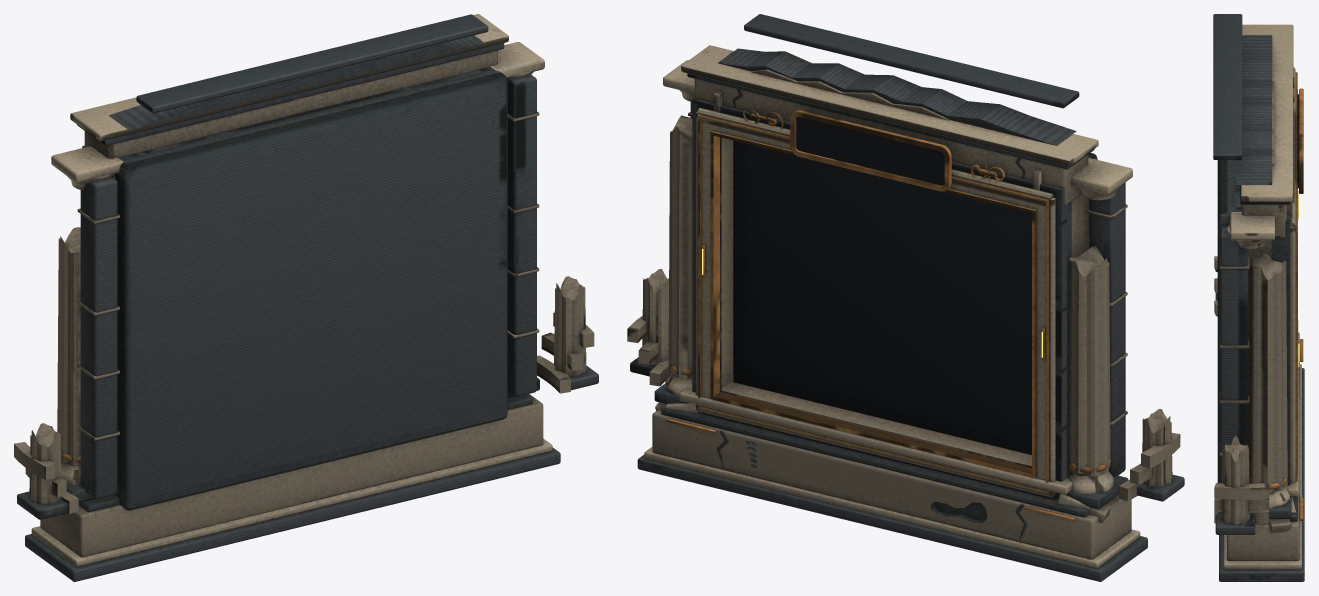
3 views of the same model, side by side, from view 1: azimuth 30°, elevation 25°; view 2: azimuth 150°, elevation 25°; view 3: azimuth 270°, elevation 25° (orthographic). The views are drawn at different scales.
Visible parts, largest first — view 1: Mountain_basalt, Arena_weathered_limestone, Fractured_limestone; view 2: Uniform_charcoal, Arena_weathered_limestone, Mountain_basalt, Fractured_limestone, Worn_sunset_bronze; view 3: Mountain_basalt, Arena_weathered_limestone, Fractured_limestone, Worn_sunset_bronze, Uniform_charcoal.
Part boxes in pixels (<box>): Mountain_basalt: <box>17,14,598,581</box>; Arena_weathered_limestone: <box>14,50,594,557</box>; Fractured_limestone: <box>31,14,552,566</box>; Uniform_charcoal: <box>733,117,1031,454</box>; Arena_weathered_limestone: <box>627,69,1180,559</box>; Mountain_basalt: <box>630,14,1184,581</box>; Fractured_limestone: <box>644,45,1140,568</box>; Worn_sunset_bronze: <box>666,106,1110,520</box>; Mountain_basalt: <box>1213,14,1304,581</box>; Arena_weathered_limestone: <box>1214,82,1299,560</box>; Fractured_limestone: <box>1223,24,1301,569</box>; Worn_sunset_bronze: <box>1249,72,1303,520</box>; Uniform_charcoal: <box>1297,94,1298,188</box>.
Bounding box in the file's own units: 11.5 × 9 × 1.89.
6 materials, 5 textured.
